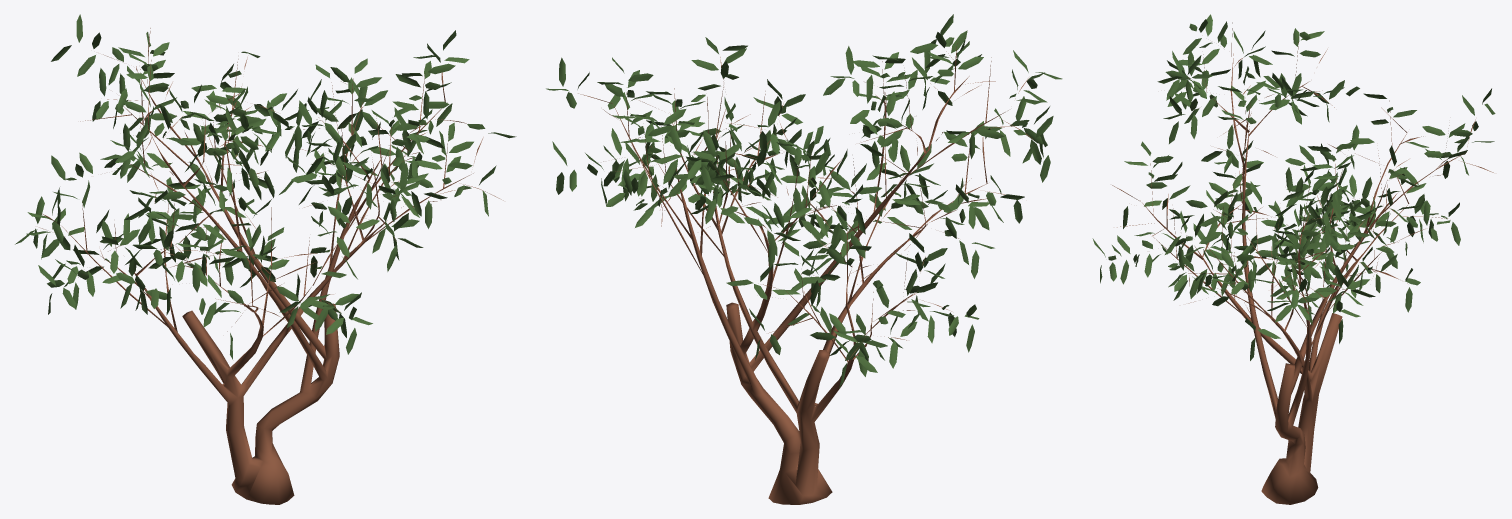
The model's file is Arbousier_0_Niveau1.fbx.
3 renders of one model, left to right at view 1: azimuth 30°, elevation 25°; view 2: azimuth 150°, elevation 25°; view 3: azimuth 270°, elevation 25°, orthographic. The views are drawn at different scales.
Parts seen in each view (by area): view 1: Arbousier_0_Niveau1; view 2: Arbousier_0_Niveau1; view 3: Arbousier_0_Niveau1.
Part boxes in pixels (x1,y1,x2,y2): Arbousier_0_Niveau1: [15, 14, 516, 504]; Arbousier_0_Niveau1: [546, 14, 1062, 504]; Arbousier_0_Niveau1: [1092, 14, 1495, 504].
Bounding box in the file's own units: 216 × 212 × 186.
